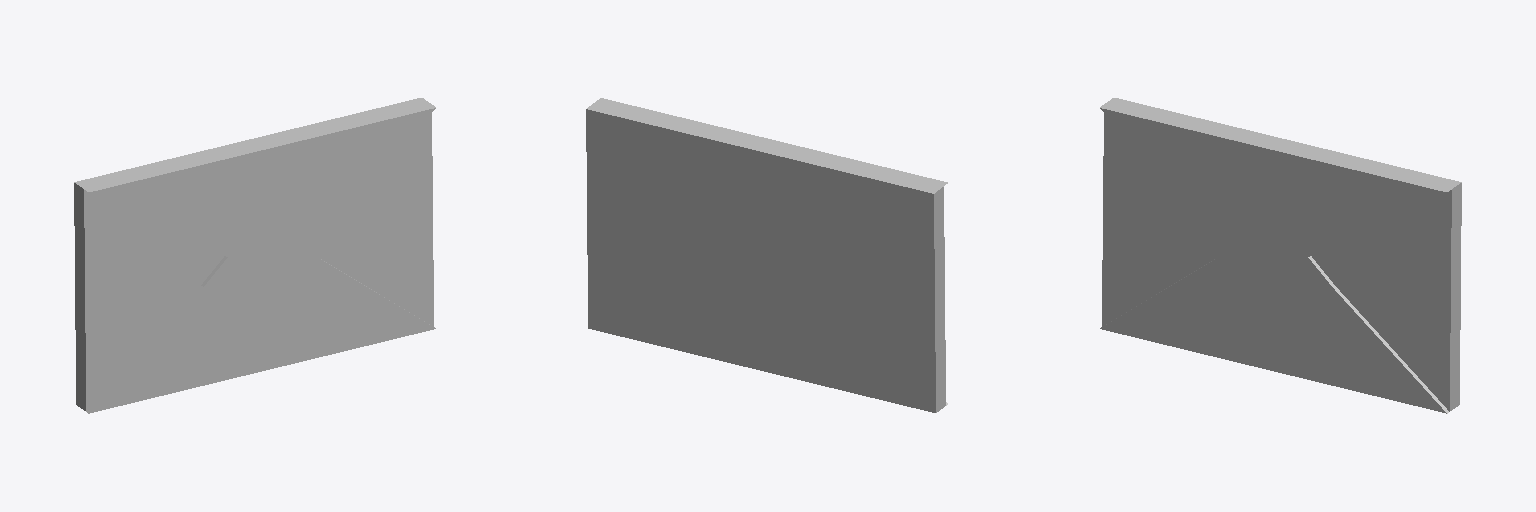
The model's file is envelope.obj.
3 renders of one model, left to right at view 1: azimuth 30°, elevation 25°; view 2: azimuth 150°, elevation 25°; view 3: azimuth 330°, elevation 25°, orthographic.
Parts seen in each view (by area): view 1: envelope; view 2: envelope; view 3: envelope.
Boxes of the visible parts, x1=… form: envelope: x1=74, y1=98, x2=435, y2=413; envelope: x1=586, y1=98, x2=947, y2=412; envelope: x1=1100, y1=98, x2=1461, y2=413.
Bounding box in the file's own units: 1 × 0.6086 × 0.0794.